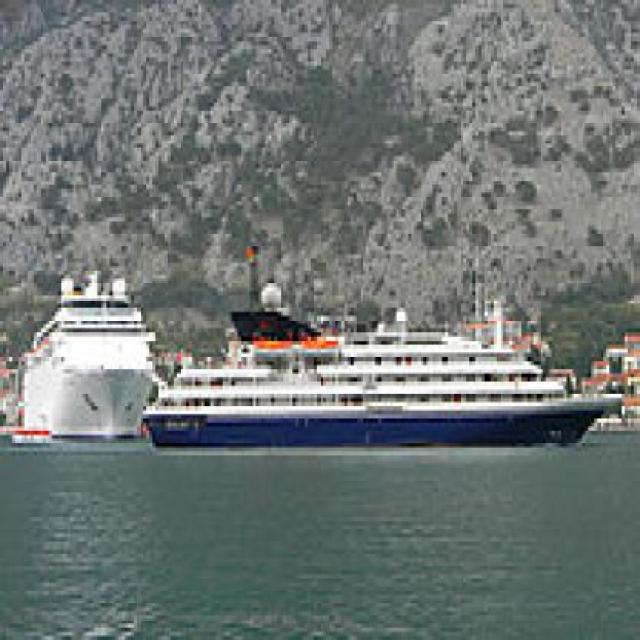cruise: (138, 279, 635, 461), (10, 256, 175, 453)
